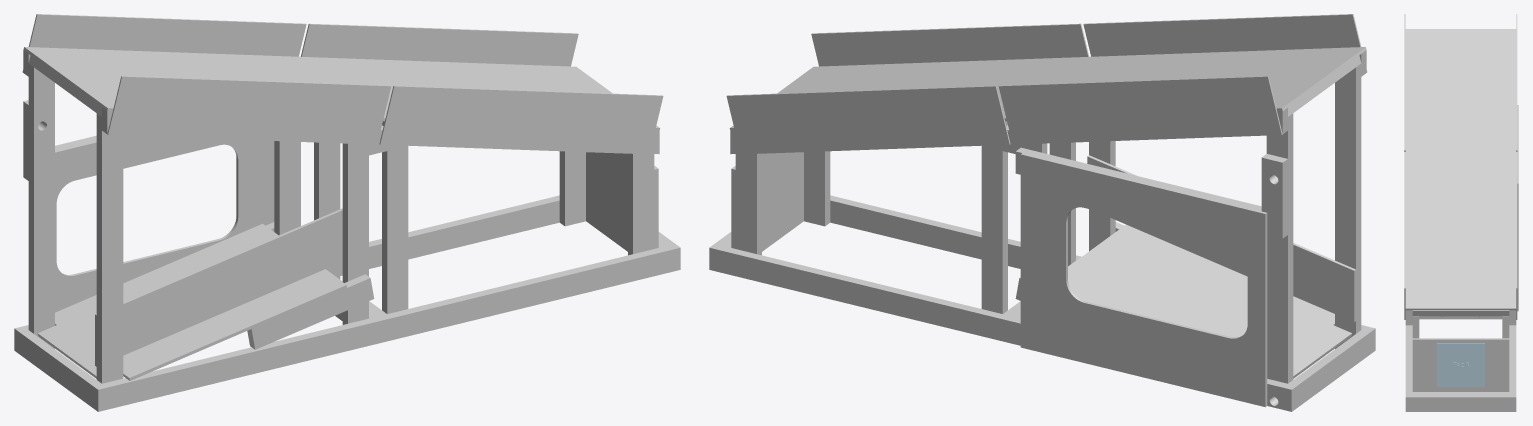
Rendered from BlueOven.fbx.
3 renders of one model, left to right at view 1: azimuth 30°, elevation 25°; view 2: azimuth 150°, elevation 25°; view 3: azimuth 270°, elevation 25°, orthographic. The views are drawn at different scales.
Visible parts, largest first — view 1: mesh168_mesh.001, mesh279_mesh, mesh30_mesh.004, mesh90_mesh, mesh144_mesh.001, mesh323_mesh, mesh132_mesh, mesh100_mesh, mesh367_mesh, mesh120_mesh, mesh303_mesh, mesh138_mesh.001 (+14 smaller); view 2: mesh100_mesh, mesh144_mesh.001, mesh323_mesh, mesh90_mesh, mesh168_mesh.001, mesh279_mesh, mesh132_mesh, mesh329_mesh, mesh303_mesh, mesh30_mesh.004, mesh138_mesh.001, mesh188_mesh.001 (+13 smaller); view 3: mesh303_mesh, mesh132_mesh, mesh291_mesh, mesh385_mesh, Apriltag 8, mesh355_mesh, mesh329_mesh, mesh367_mesh, mesh100_mesh, mesh279_mesh, mesh323_mesh, mesh309_mesh (+6 smaller).
Part boxes in pixels (x1,y1,x2,y2): mesh168_mesh.001: [107, 76, 391, 144]; mesh279_mesh: [379, 85, 663, 154]; mesh30_mesh.004: [95, 208, 342, 366]; mesh90_mesh: [37, 223, 346, 380]; mesh144_mesh.001: [22, 14, 306, 72]; mesh323_mesh: [300, 23, 578, 66]; mesh132_mesh: [23, 47, 383, 120]; mesh100_mesh: [55, 135, 274, 312]; mesh367_mesh: [378, 249, 659, 342]; mesh120_mesh: [102, 316, 383, 409]; mesh303_mesh: [301, 57, 660, 131]; mesh138_mesh.001: [96, 113, 123, 383]; mesh100_mesh: [1020, 153, 1267, 407]; mesh144_mesh.001: [998, 76, 1282, 144]; mesh323_mesh: [726, 85, 1010, 154]; mesh90_mesh: [1068, 224, 1352, 378]; mesh168_mesh.001: [1083, 14, 1367, 72]; mesh279_mesh: [811, 23, 1089, 66]; mesh132_mesh: [1006, 47, 1366, 120]; mesh329_mesh: [730, 249, 1011, 342]; mesh303_mesh: [729, 57, 1088, 131]; mesh30_mesh.004: [1087, 155, 1355, 322]; mesh138_mesh.001: [1335, 64, 1361, 348]; mesh188_mesh.001: [1266, 113, 1293, 401]; mesh303_mesh: [1405, 168, 1516, 310]; mesh132_mesh: [1405, 29, 1516, 168]; mesh291_mesh: [1412, 338, 1509, 391]; mesh385_mesh: [1405, 390, 1516, 411]; Apriltag 8: [1436, 343, 1484, 387]; mesh355_mesh: [1412, 310, 1509, 316]; mesh329_mesh: [1509, 325, 1516, 390]; mesh367_mesh: [1405, 325, 1412, 390]; mesh100_mesh: [1517, 105, 1518, 311]; mesh279_mesh: [1404, 152, 1405, 319]; mesh323_mesh: [1516, 152, 1517, 319]; mesh309_mesh: [1419, 316, 1502, 319].
Bounding box in the file's own units: 244 × 132 × 62.87.
